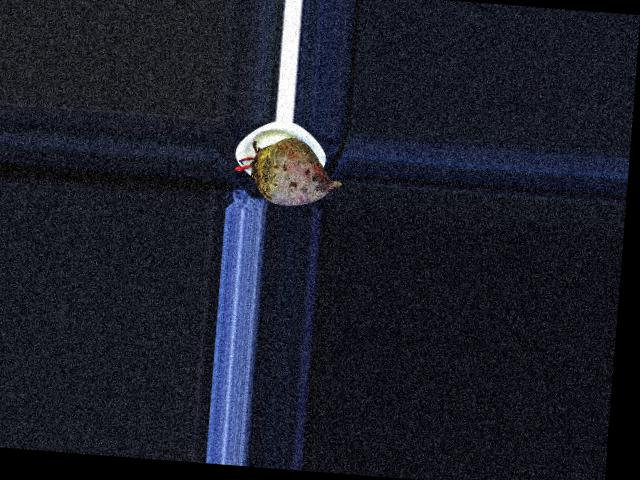beet: (232, 133, 344, 208)
